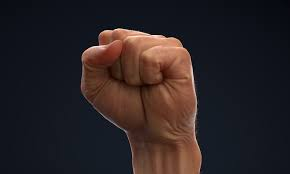closed: (79, 27, 198, 144)
